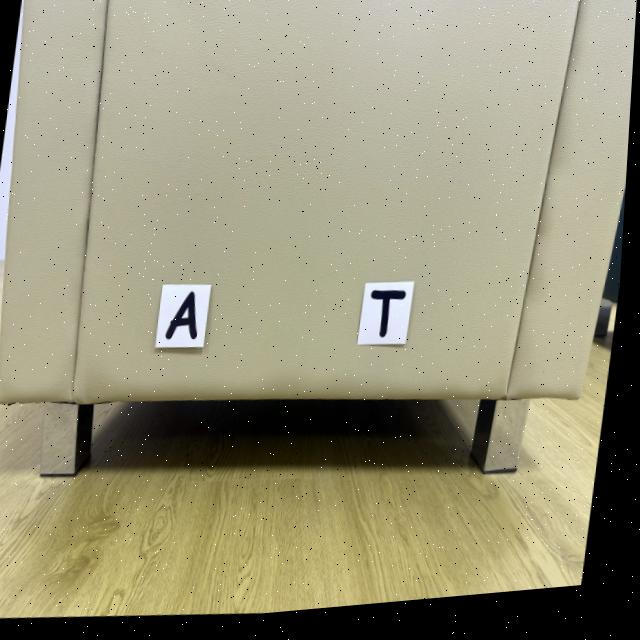A: (170, 294, 201, 343)
T: (375, 298, 409, 344)
